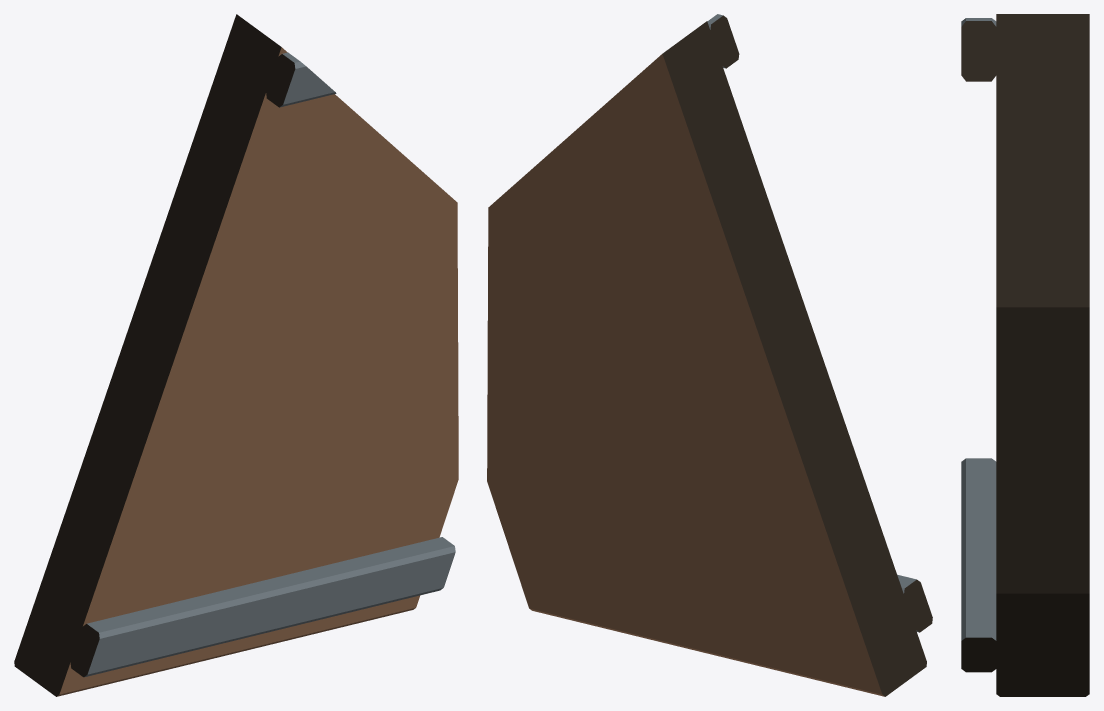
File: SM_DoorShard_03_38.fbx
The picture shows the model from 3 angles, left to right: view 1: azimuth 30°, elevation 25°; view 2: azimuth 150°, elevation 25°; view 3: azimuth 270°, elevation 25°; orthographic projection. The views are drawn at different scales.
Visible parts, largest first — view 1: SM_DoorShard_03_38; view 2: SM_DoorShard_03_38; view 3: SM_DoorShard_03_38.
Part boxes in pixels (<box>): SM_DoorShard_03_38: <box>14,14,458,696</box>; SM_DoorShard_03_38: <box>487,14,932,696</box>; SM_DoorShard_03_38: <box>961,14,1089,696</box>.
Size of the model in its own units: 81.9 by 22 by 117.
